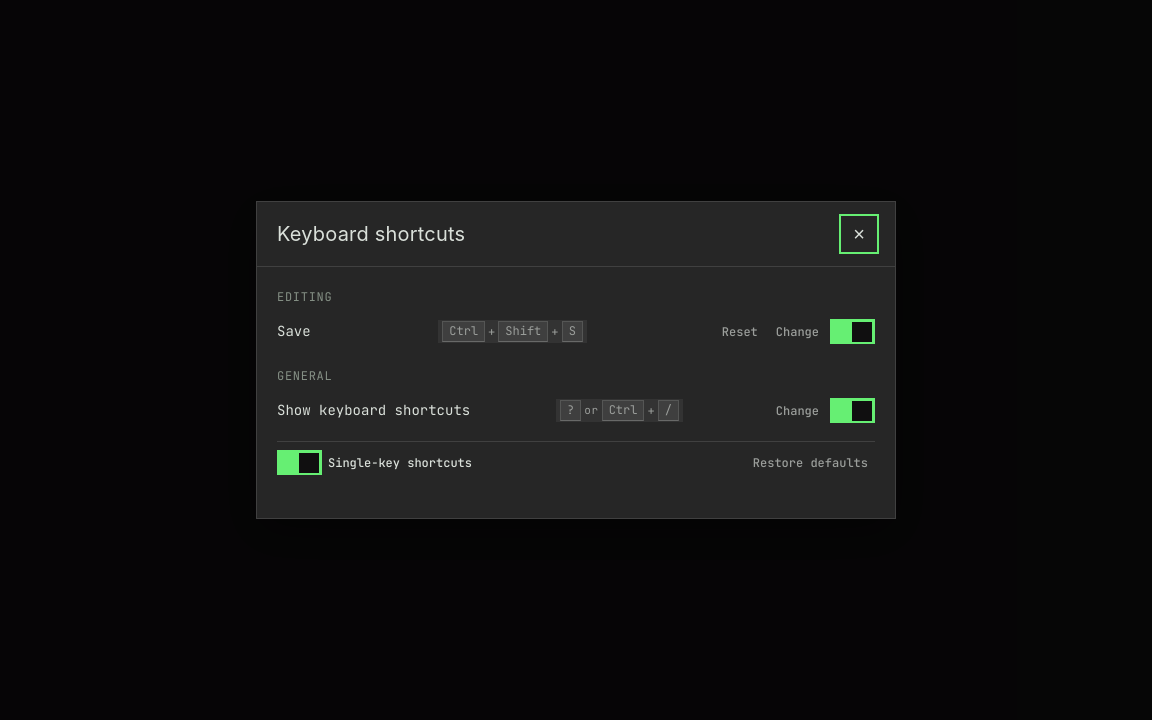
Test: ShortcutsHelp — editable mode (DS-0141) › per-row Reset appears once remapped and restores the default
What coordinates should you click on to do the following:
click the button named "Reset the shortcut for \"Save\" to its default"
I would click on:
 (740, 332)
Its box is [715, 320, 765, 344].
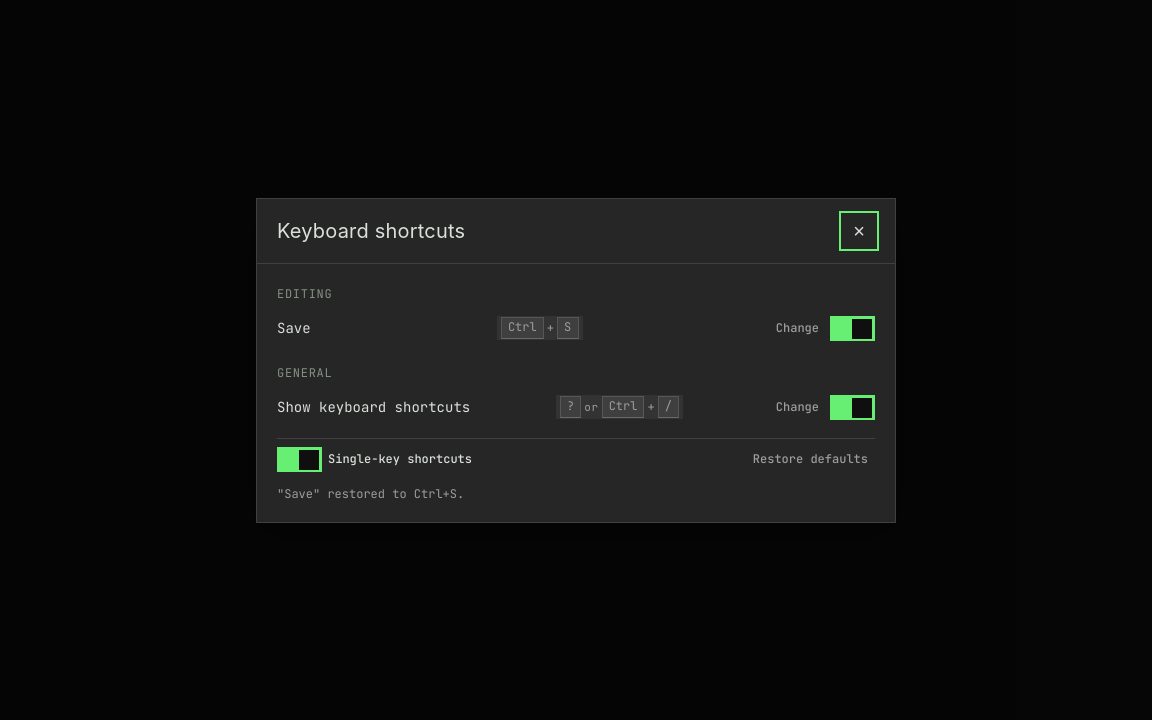
Now the message with class "status" shows "restored to Ctrl+S", box [277, 486, 464, 502]
